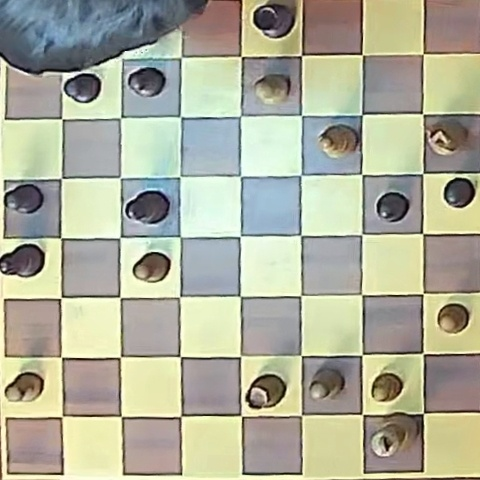black-bishop: (125, 190, 169, 225), (0, 244, 44, 277)
black-pawn: (4, 183, 44, 214), (128, 66, 165, 97), (64, 73, 101, 103), (376, 192, 409, 223), (443, 178, 474, 209)
black-rook: (253, 3, 293, 38)
white-bishop: (318, 124, 358, 158)
white-king: (370, 415, 417, 458)
white-knight: (426, 120, 467, 155)
white-pawn: (133, 252, 170, 283), (5, 372, 43, 402), (309, 369, 344, 401), (254, 74, 290, 104), (437, 303, 469, 334), (371, 373, 403, 403)
white-rook: (246, 375, 285, 409)
